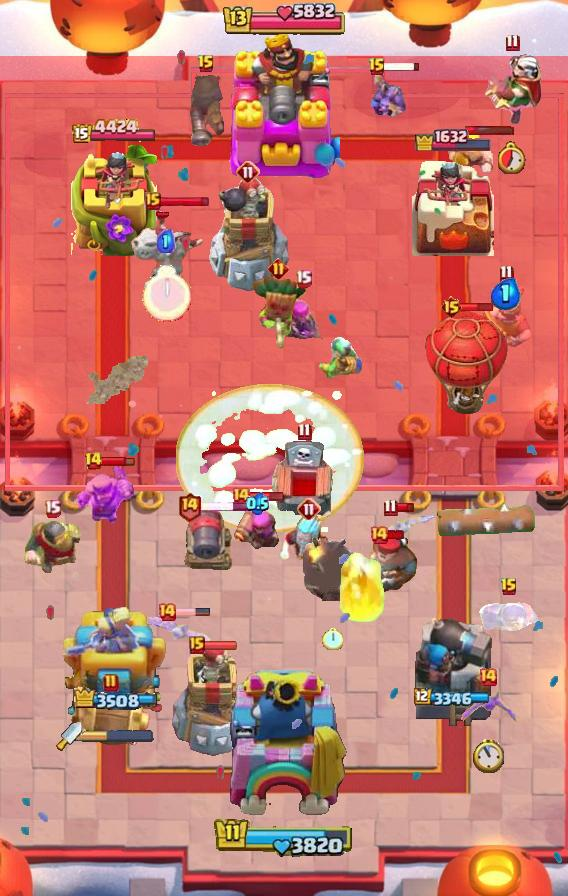archer: (447, 133, 493, 175)
arrows: (74, 462, 138, 530)
baby-dragon: (303, 539, 361, 602)
bar: (60, 607, 168, 731)
barbarian: (458, 689, 518, 727), (369, 510, 435, 544), (148, 613, 212, 645)
bomb-tower: (187, 72, 225, 148)
cannon-cart: (424, 309, 510, 417)
clock: (214, 818, 354, 859), (221, 0, 347, 40)
earthquake: (479, 283, 533, 353)
electro-spirit: (491, 278, 521, 310), (246, 492, 269, 516), (157, 229, 175, 253)
elixir: (142, 266, 191, 322), (473, 739, 503, 773), (498, 141, 526, 174), (321, 627, 343, 650)
elixir-golem-mid: (269, 440, 339, 526)
emote: (159, 195, 210, 208), (199, 500, 252, 511), (465, 124, 515, 135), (460, 301, 495, 313), (100, 455, 135, 467), (384, 61, 421, 72), (248, 490, 284, 501), (202, 640, 238, 651), (175, 607, 211, 617), (386, 529, 406, 541), (397, 502, 416, 513)
evolution-symbol: (272, 290, 334, 346)
firecracker: (22, 519, 81, 575)
firecracker-evolution: (478, 600, 540, 634)
fisherman: (86, 356, 148, 404)
giant-snowball: (316, 336, 366, 380)
goblin-barrel: (248, 272, 308, 350)
king-tower: (219, 670, 349, 826), (228, 29, 340, 181)
king-tower-bar: (82, 729, 154, 743)
mini-pekka: (127, 197, 205, 283)
minion: (436, 502, 536, 538)
mortar: (279, 512, 339, 576)
phoenix-big: (176, 384, 364, 532)
phoenix-small: (361, 531, 421, 603)
queen-tower: (71, 144, 157, 255), (412, 156, 494, 256)
royal-delivery: (371, 71, 411, 119)
royal-giant-evolution: (179, 505, 237, 575)
selected: (71, 118, 157, 146), (71, 687, 156, 711), (414, 126, 494, 151), (414, 688, 492, 708)
skeleton-king: (482, 53, 542, 129)
text: (178, 490, 202, 521), (236, 160, 260, 184), (297, 497, 321, 521), (441, 295, 464, 319), (268, 257, 289, 279), (84, 451, 104, 471), (231, 486, 251, 506), (369, 525, 389, 545), (157, 602, 177, 622), (478, 667, 498, 687), (197, 54, 215, 74), (368, 57, 386, 77), (500, 577, 518, 597), (43, 498, 60, 517), (103, 673, 119, 693), (295, 269, 312, 287), (145, 192, 161, 210), (189, 636, 205, 654), (383, 498, 398, 517), (504, 33, 519, 51), (296, 423, 311, 441), (499, 265, 513, 284)
the-log: (69, 686, 153, 748)
tombstone: (233, 499, 281, 553)
tower-bar: (410, 611, 496, 731)
valkyrie: (334, 551, 388, 627)
zappy: (206, 174, 290, 296), (169, 642, 254, 758)
